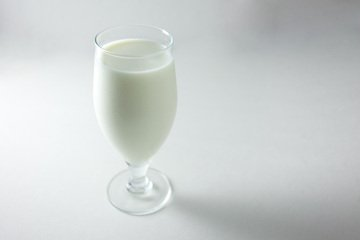glass of milk: (90, 35, 184, 209)
